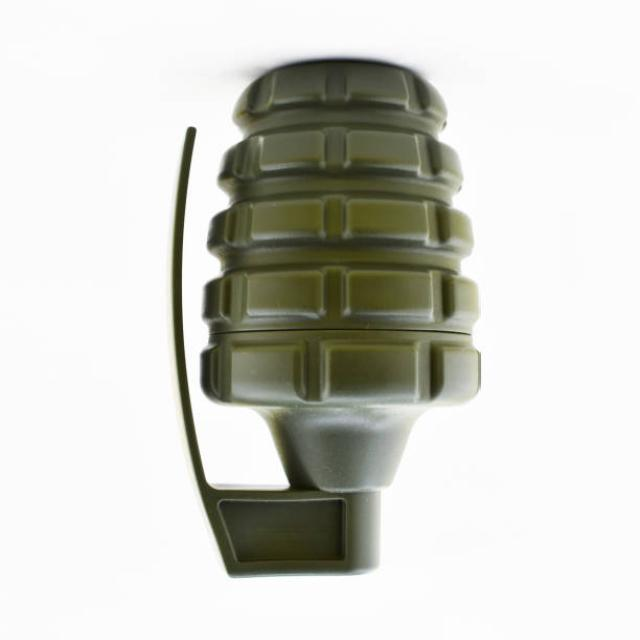grenade: (166, 55, 490, 596)
